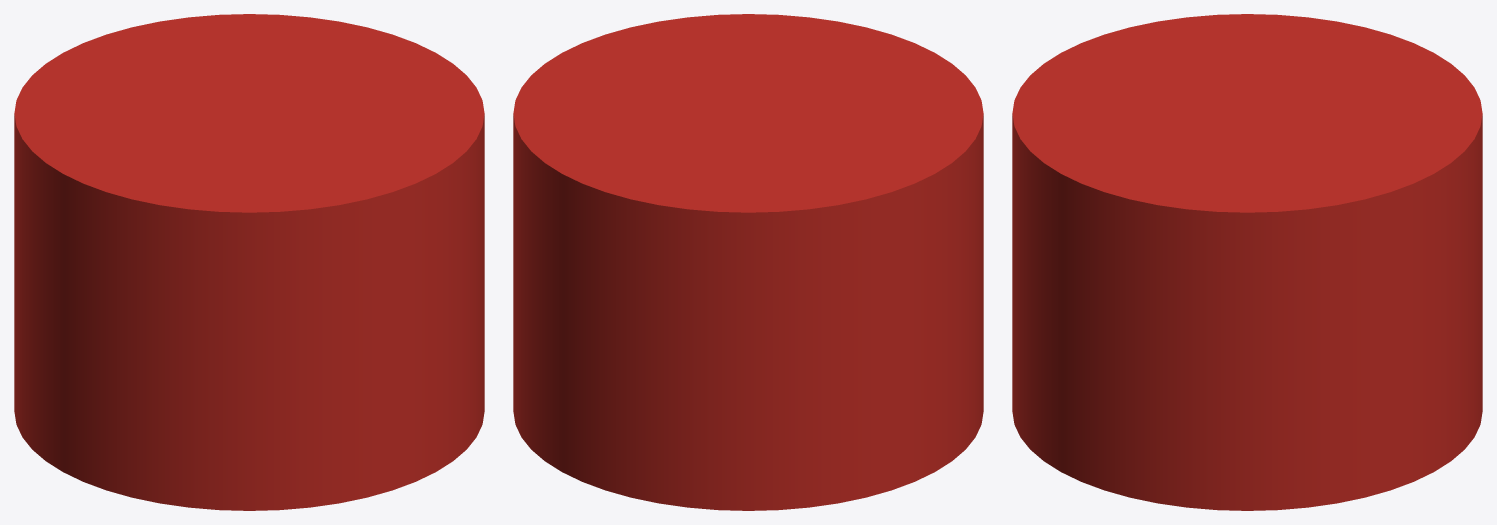
The model's file is 201_arret_urgence_rouge.glb.
The picture shows the model from 3 angles, left to right: view 1: azimuth 30°, elevation 25°; view 2: azimuth 150°, elevation 25°; view 3: azimuth 270°, elevation 25°; orthographic projection.
Parts seen in each view (by area): view 1: AGV_arret_urgence_rouge; view 2: AGV_arret_urgence_rouge; view 3: AGV_arret_urgence_rouge.
Boxes of the visible parts, left/top/right/bottom form: AGV_arret_urgence_rouge: left=14, top=14, right=484, bottom=510; AGV_arret_urgence_rouge: left=513, top=14, right=983, bottom=510; AGV_arret_urgence_rouge: left=1012, top=14, right=1482, bottom=510.
Size of the model in its own units: 0.05 by 0.035 by 0.05.
